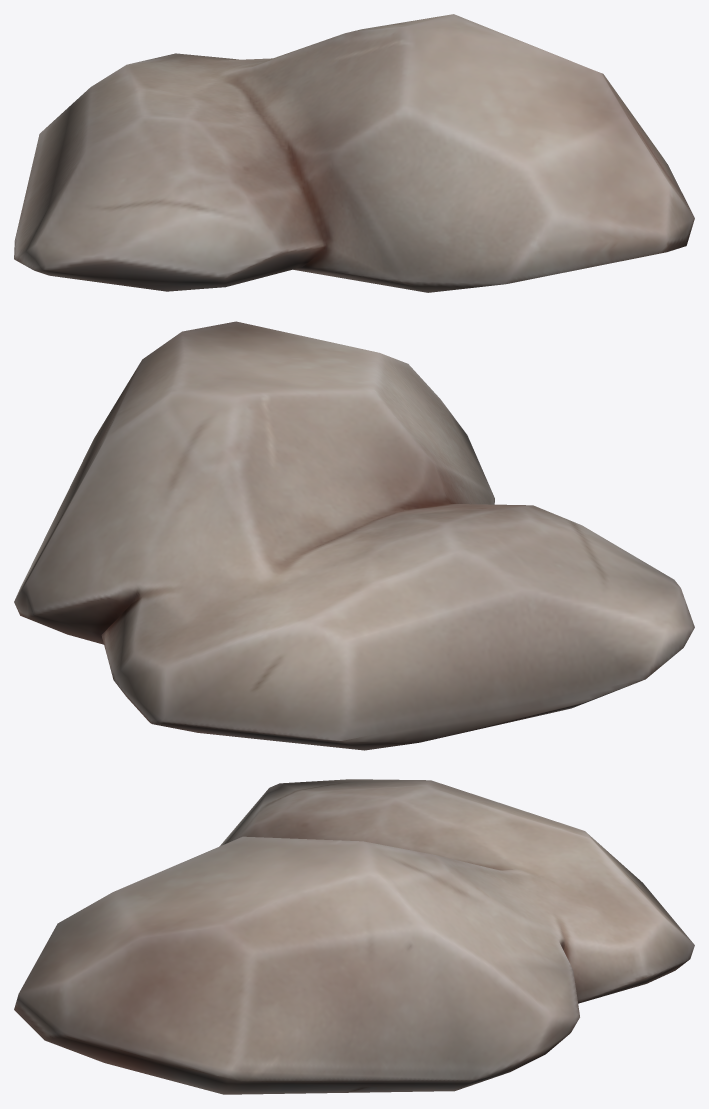
File: SM_Gem_Iron_008.fbx
The picture shows the model from 3 angles, top to bottom: view 1: azimuth 30°, elevation 25°; view 2: azimuth 150°, elevation 25°; view 3: azimuth 270°, elevation 25°; orthographic projection. The views are drawn at different scales.
Parts seen in each view (by area): view 1: SM_Gem_Iron_008; view 2: SM_Gem_Iron_008; view 3: SM_Gem_Iron_008.
Part boxes in pixels (x1,y1,x2,y2): SM_Gem_Iron_008: [14, 14, 694, 292]; SM_Gem_Iron_008: [14, 321, 694, 750]; SM_Gem_Iron_008: [14, 779, 694, 1094].
Bounding box in the file's own units: 48.67 × 14.86 × 48.66.
